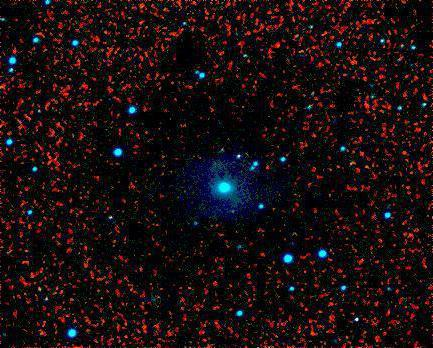star: (217, 196, 247, 226)
